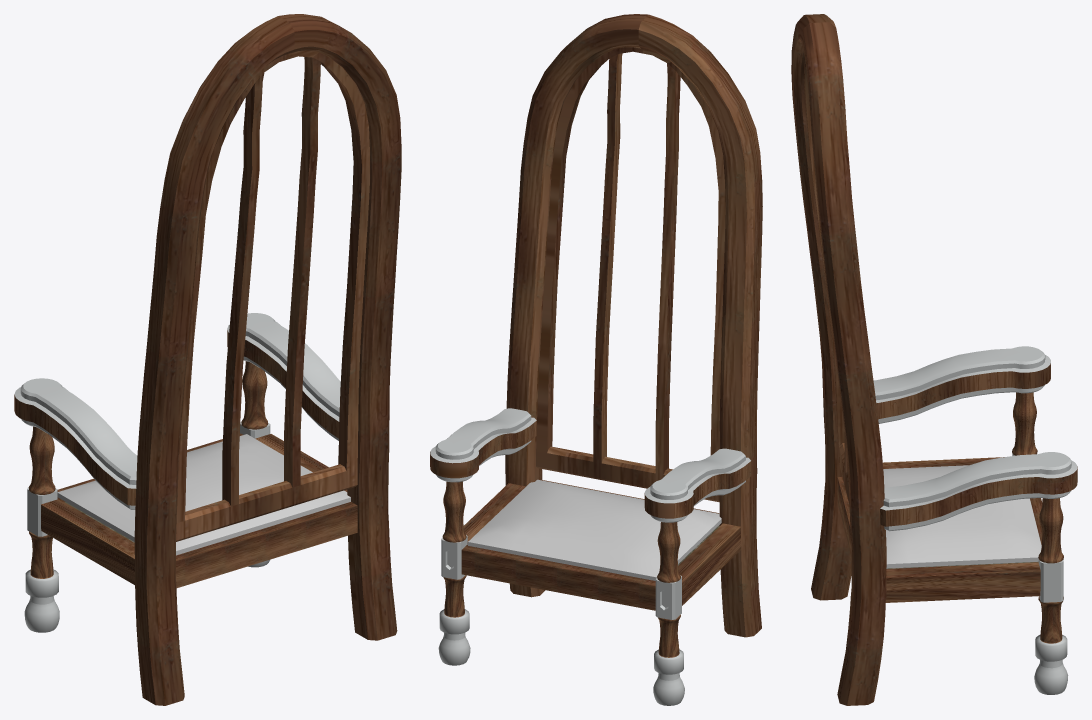
File: park_chair.fbx
3 renders of one model, left to right at view 1: azimuth 30°, elevation 25°; view 2: azimuth 150°, elevation 25°; view 3: azimuth 270°, elevation 25°, orthographic. The views are drawn at different scales.
Visible parts, largest first — view 1: pasted__support_r, pasted__bars_back, pasted__support_l, pasted__cushion, pasted__armRest_r, pasted__support_back, pasted__armRest_l, pasted__legStand_r, pasted__armFrame_l, pasted__armFrame_r, pasted__armStand_r; view 2: pasted__support_r, pasted__bars_back, pasted__support_l, pasted__cushion, pasted__support_front, pasted__armRest_r, pasted__armRest_l, pasted__legStand_l, pasted__legStand_r, pasted__armFrame_l, pasted__armFrame_r, pasted__armStand_r (+1 smaller); view 3: pasted__support_l, pasted__support_r, pasted__cushion, pasted__armRest_l, pasted__armRest_r, pasted__legStand_l, pasted__bars_back, pasted__armFrame_l, pasted__armFrame_r, pasted__armStand_l, pasted__support_back.
Boxes of the visible parts, <box> form: pasted__support_r: <box>41,16,294,705</box>; pasted__bars_back: <box>176,50,369,541</box>; pasted__support_l: <box>255,14,401,640</box>; pasted__cushion: <box>57,434,350,555</box>; pasted__armRest_r: <box>14,378,137,509</box>; pasted__support_back: <box>176,502,357,587</box>; pasted__armRest_l: <box>227,313,340,440</box>; pasted__legStand_r: <box>24,531,59,632</box>; pasted__armFrame_l: <box>241,361,268,429</box>; pasted__armFrame_r: <box>28,426,55,494</box>; pasted__armStand_r: <box>27,487,57,536</box>; pasted__support_r: <box>638,14,762,637</box>; pasted__bars_back: <box>536,47,725,502</box>; pasted__support_l: <box>463,14,648,597</box>; pasted__cushion: <box>468,479,721,580</box>; pasted__support_front: <box>461,545,655,610</box>; pasted__armRest_r: <box>644,448,751,522</box>; pasted__armRest_l: <box>430,408,536,482</box>; pasted__legStand_l: <box>438,575,470,665</box>; pasted__legStand_r: <box>653,614,684,705</box>; pasted__armFrame_l: <box>442,481,466,542</box>; pasted__armFrame_r: <box>657,522,680,582</box>; pasted__armStand_r: <box>655,575,681,619</box>; pasted__support_l: <box>802,22,1040,705</box>; pasted__support_r: <box>791,14,1004,600</box>; pasted__cushion: <box>883,465,1041,568</box>; pasted__armRest_l: <box>880,452,1077,531</box>; pasted__armRest_r: <box>873,346,1050,423</box>; pasted__legStand_l: <box>1034,596,1068,694</box>; pasted__bars_back: <box>803,59,849,504</box>; pasted__armFrame_l: <box>1038,498,1063,563</box>; pasted__armFrame_r: <box>1012,392,1037,455</box>; pasted__armStand_l: <box>1038,559,1063,602</box>; pasted__support_back: <box>837,476,851,558</box>.
Bounding box in the file's own units: 1.05 × 2.29 × 0.9522.
